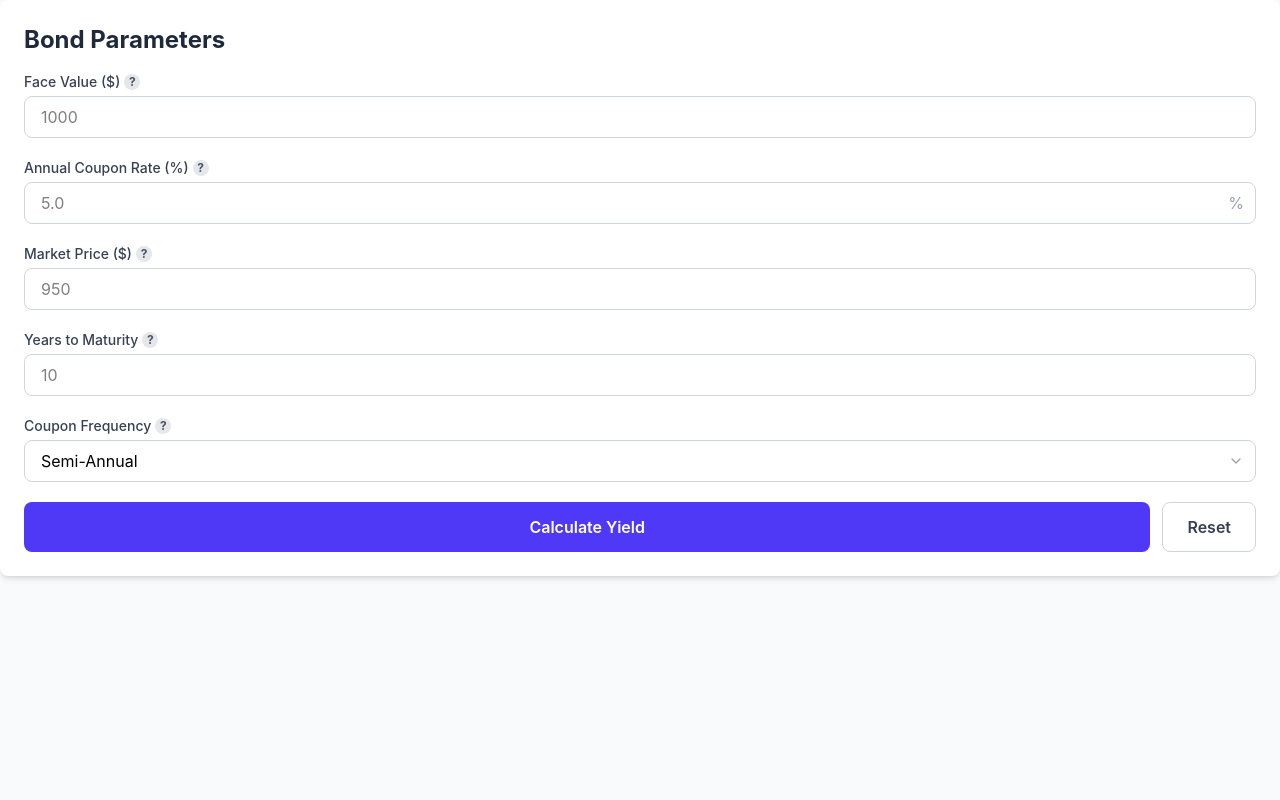
BondCalculatorForm › shows validation errors when submitting empty form
Click the button "Calculate Yield" at (587,527), box [24,502,1150,552]
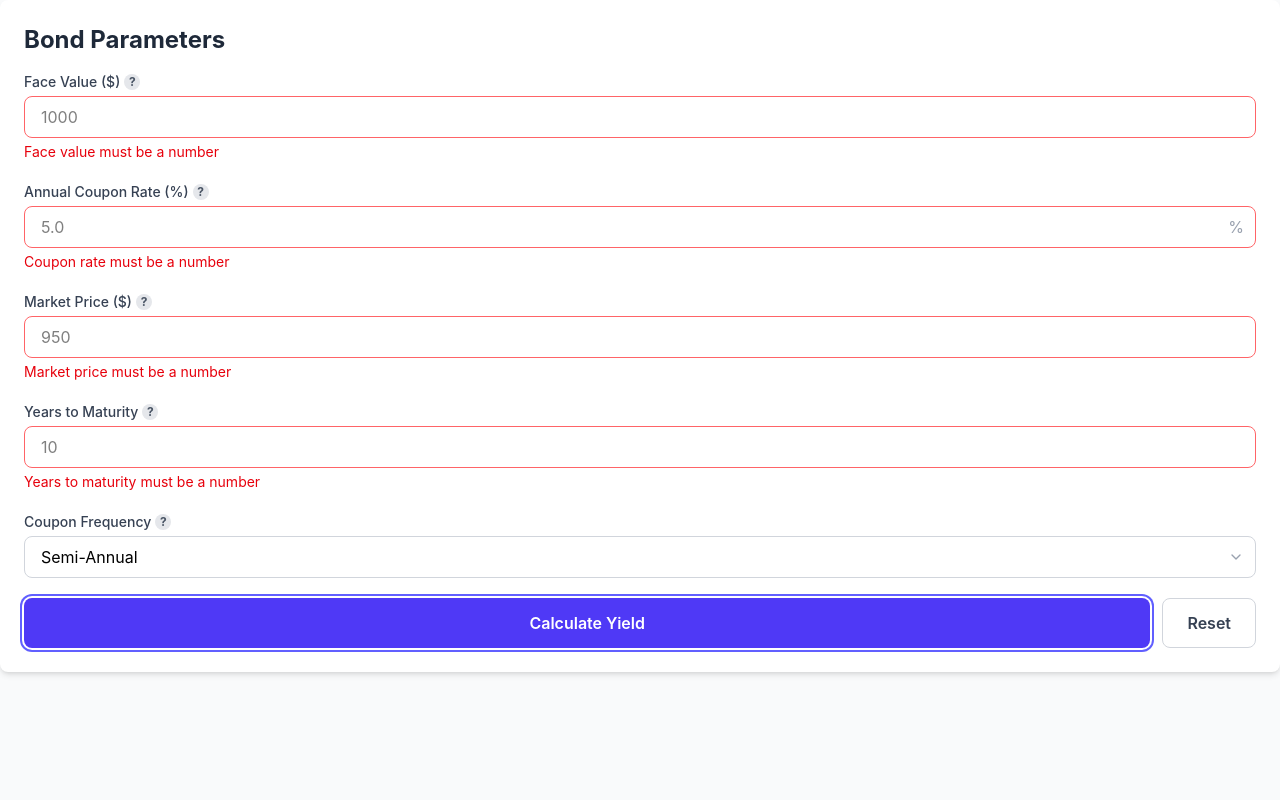
Check: the text "Face value must be a number" is shown, box [24,143,219,160]
